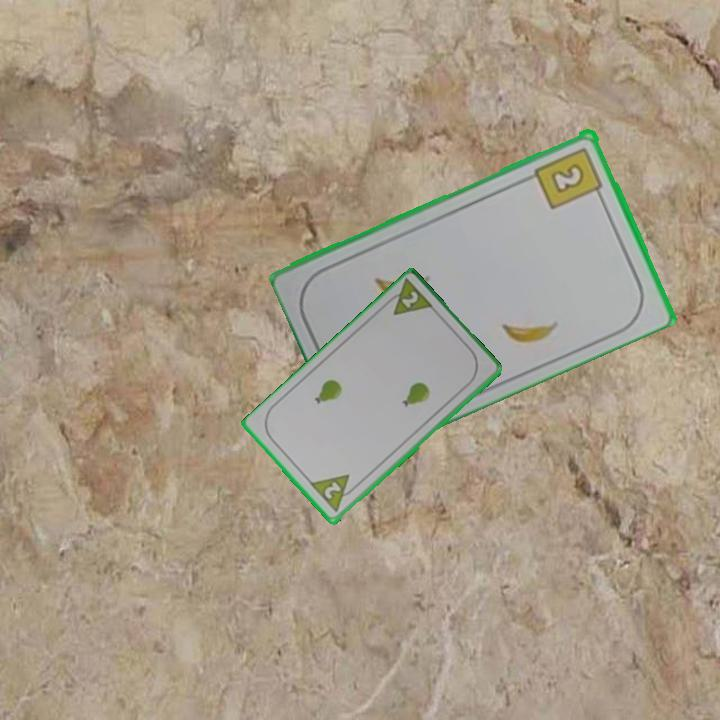2b: (531, 143, 606, 212)
2p: (307, 471, 361, 516), (398, 288, 421, 312)
